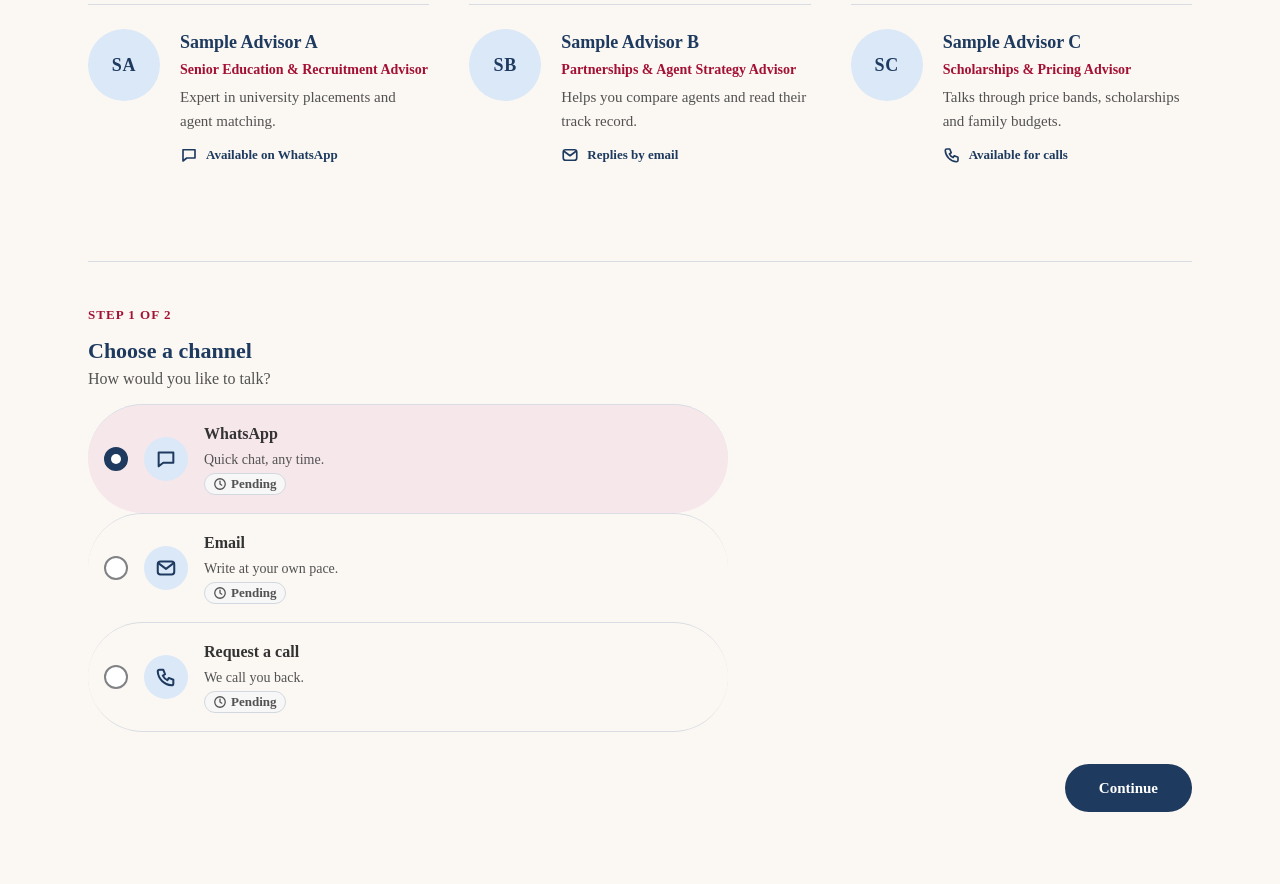
AdvisorRequest › shows per-field alerts, keeps the step and focuses the first error
(page scrolled)
Step 1. Click the button "Continue" → click(1128, 788), box [1065, 764, 1192, 812]
(page scrolled)
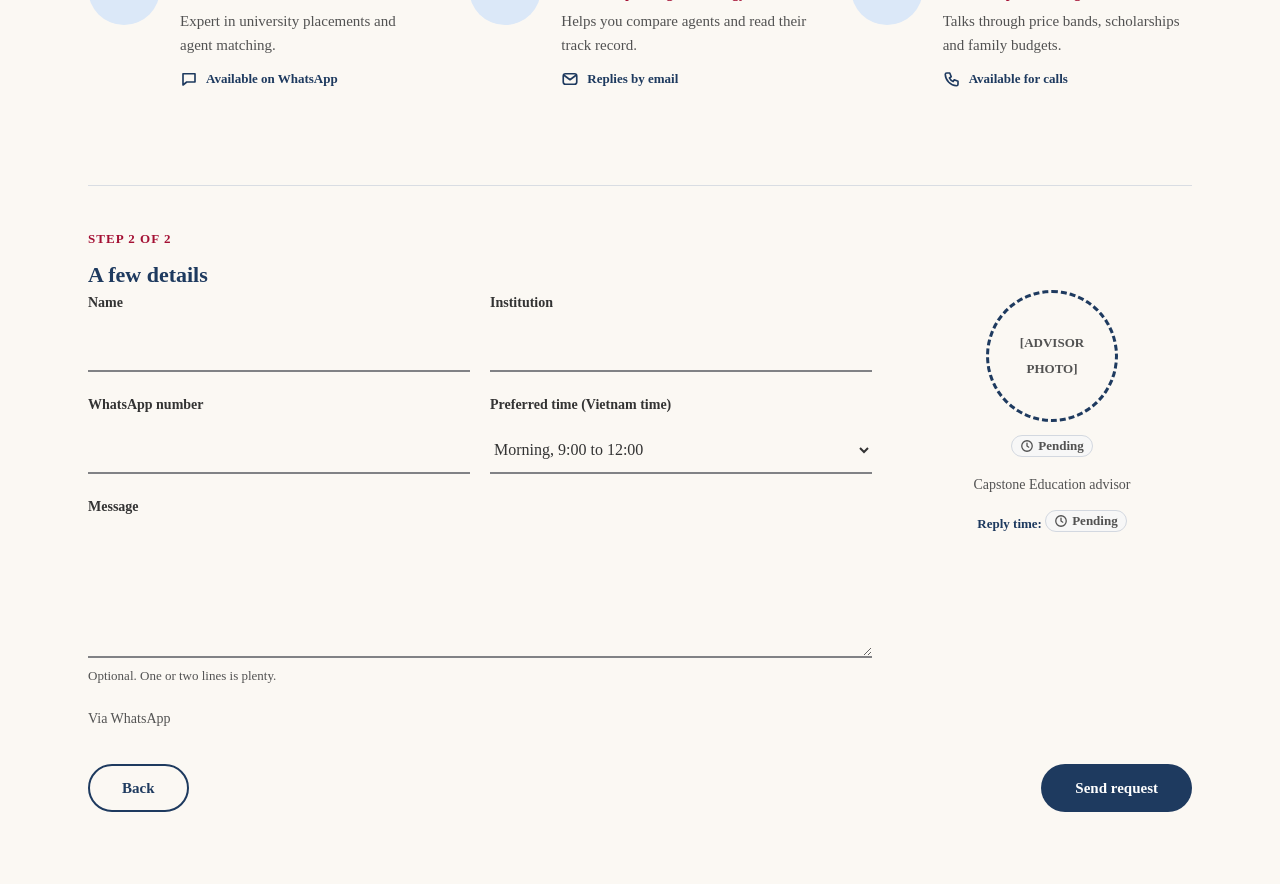
Step 2. Click the button "Send request" → click(1117, 788), box [1041, 764, 1192, 812]
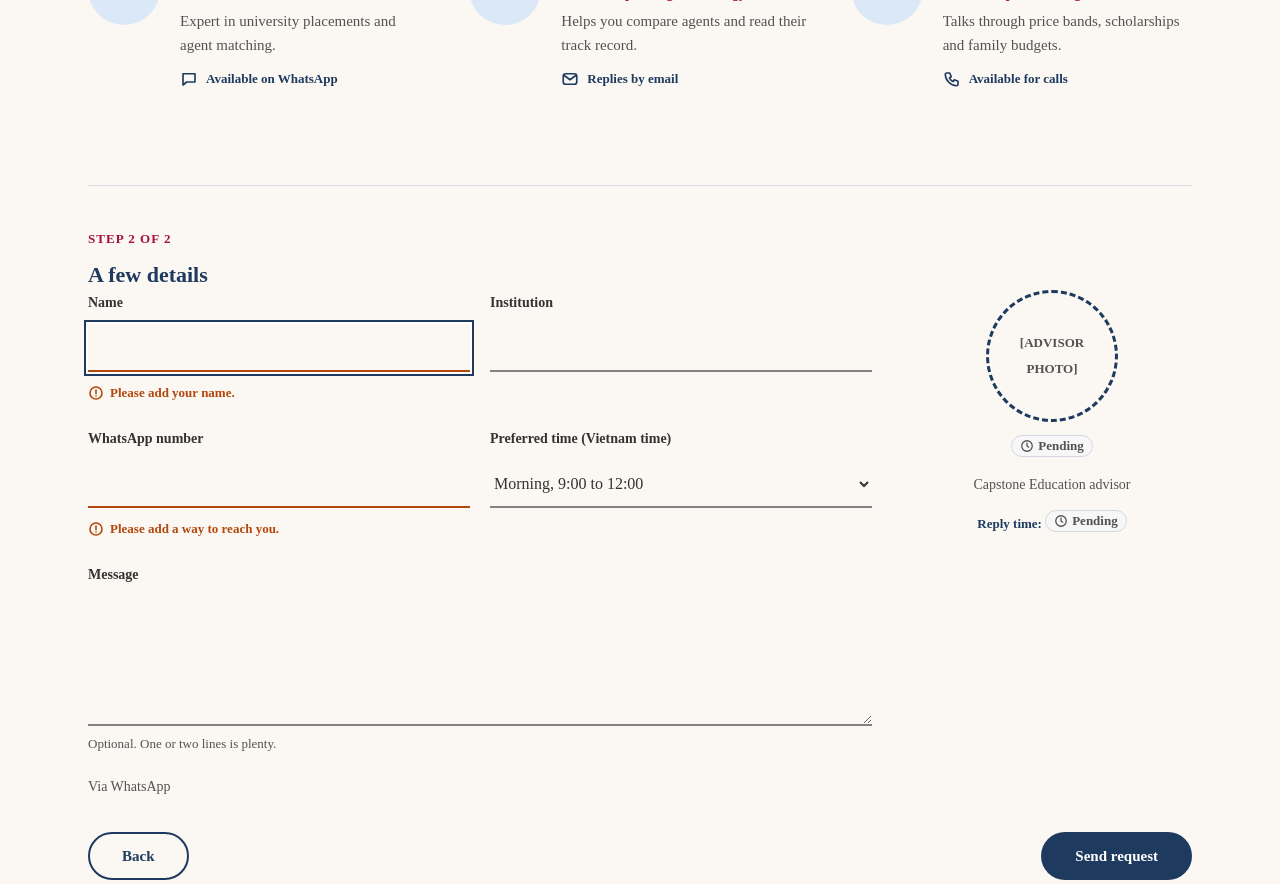
Expected: the messages read "Please add your name.", "Please add a way to reach you.", in this order, [88, 385, 235, 401]; [88, 521, 279, 537]
